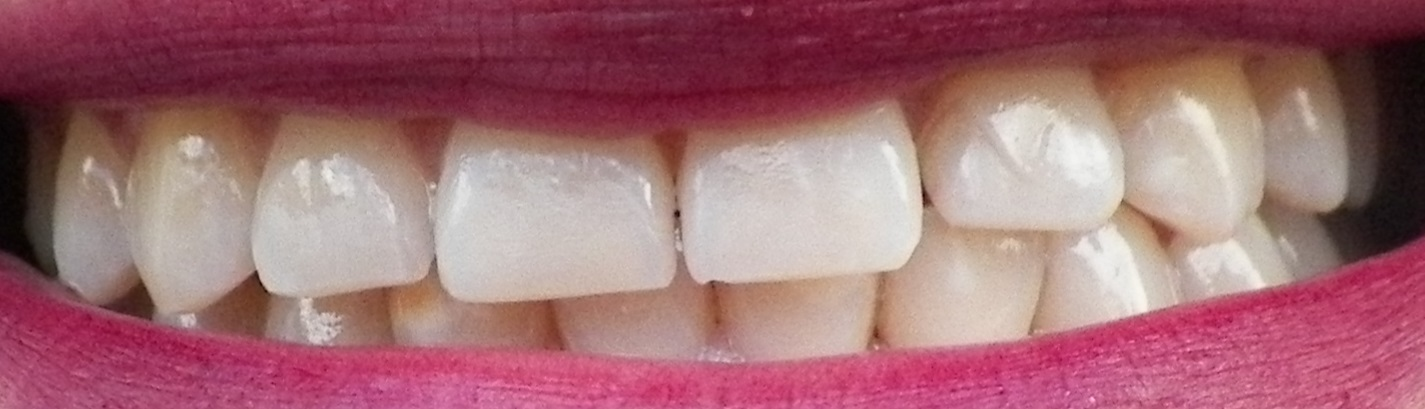boca: (47, 48, 1368, 369)
